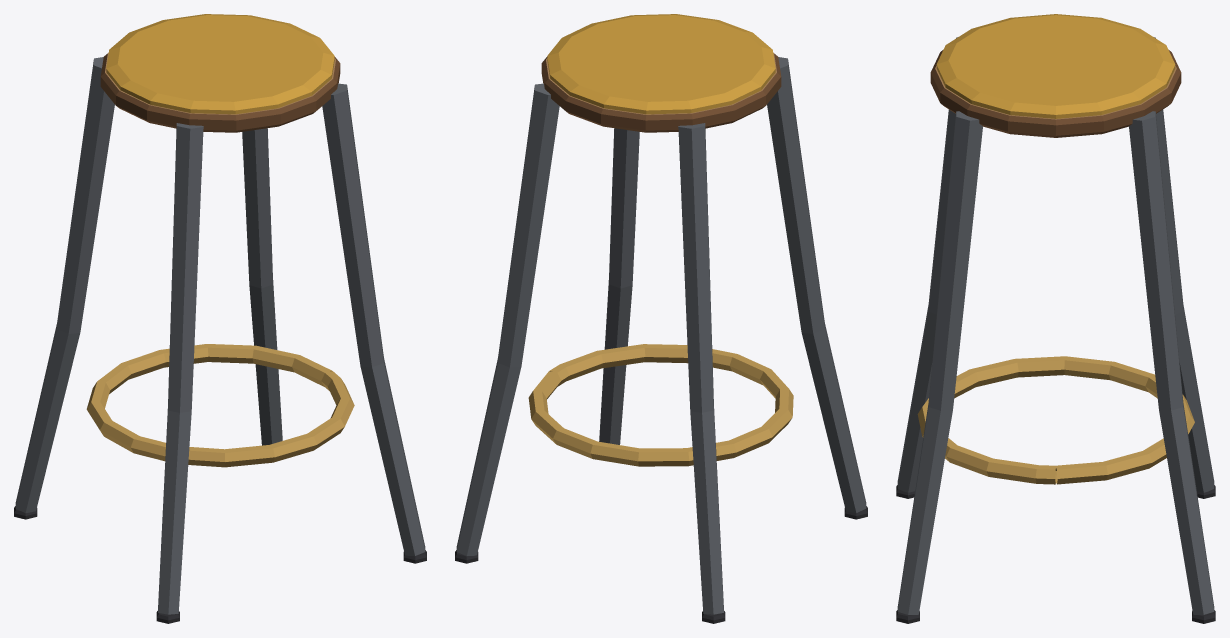
Rendered from FN_Stool_Bar.obj.
3 renders of one model, left to right at view 1: azimuth 30°, elevation 25°; view 2: azimuth 150°, elevation 25°; view 3: azimuth 270°, elevation 25°, orthographic. The views are drawn at different scales.
Parts seen in each view (by area): view 1: FN_Stool_Bar; view 2: FN_Stool_Bar; view 3: FN_Stool_Bar.
Part boxes in pixels (box(x1,y1,x2,y2)): FN_Stool_Bar: box(14, 14, 426, 623); FN_Stool_Bar: box(455, 14, 867, 623); FN_Stool_Bar: box(896, 14, 1215, 623).
Size of the model in its own units: 0.4439 by 0.75 by 0.4388.
1 material, 1 textured.
